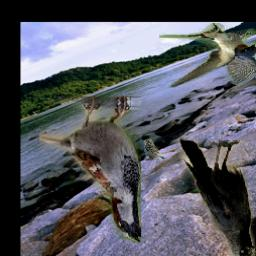Crow: (178, 141, 255, 256)
Sparrow: (40, 97, 142, 244), (144, 139, 165, 161)
Swallow: (160, 23, 256, 88)
